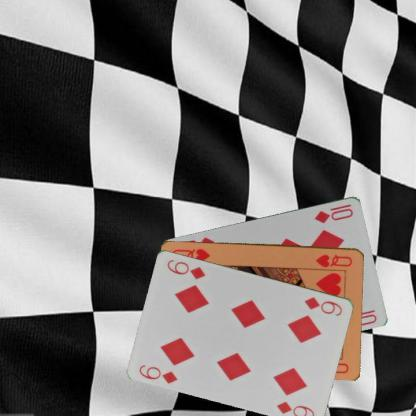10d: (312, 201, 354, 224)
6d: (301, 294, 344, 317), (136, 362, 179, 384)
Qh: (313, 251, 354, 268)
